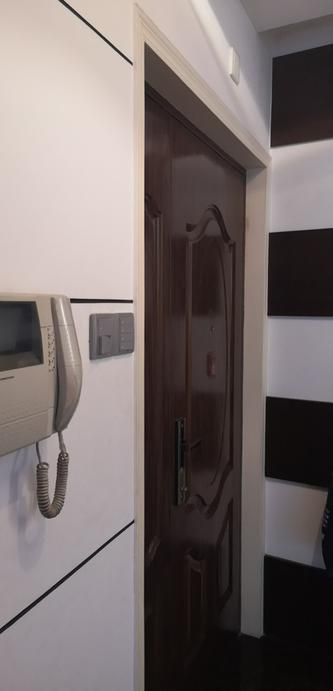switch: (95, 316, 137, 350)
